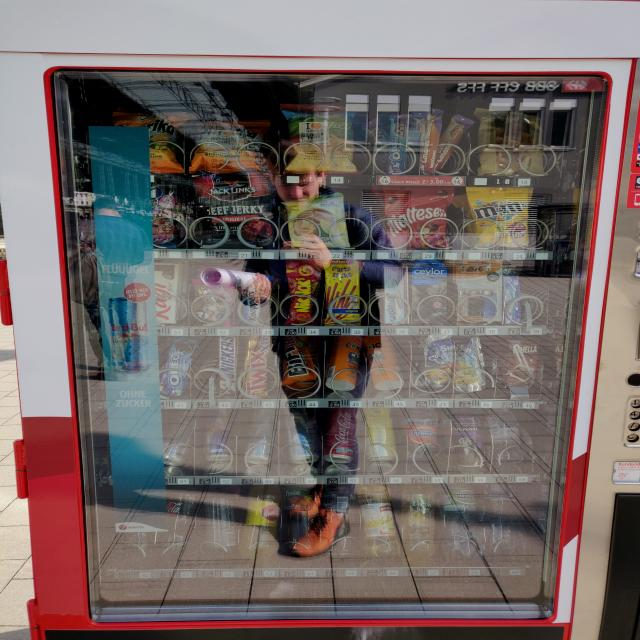bifi_roll__50__4251097402635: (280, 334, 320, 394)
c-swiss_dosenabisicetea__33__9120025930135: (365, 333, 408, 392), (323, 337, 362, 391)
caferoyal_classicmacchiato__33__7617014164487: (445, 410, 486, 471)
caprisun_multivitamin__20__4000177605004: (451, 336, 491, 392), (416, 336, 454, 389)
coke__dose_33__54491472: (323, 410, 360, 466)
coke_zero_flasche_50__5449000131836: (159, 491, 199, 567)
comella_schokodrink__33__7613100037253: (499, 337, 540, 387)
evian___50__3068320353500: (487, 410, 529, 464)
fuse_lemon_dose_33__5449000235947: (363, 410, 401, 464)
henniez_gruen__33__7610235000442: (437, 486, 482, 565)
henniez_rot__33__7610235000442: (403, 408, 443, 470)
jacklinks_beefjerkyorginal__25__4047751730219: (196, 176, 272, 250)
jlbrichard_gauffre__90__5410495002000: (475, 110, 544, 175)
kagi___50__7610046000259: (142, 261, 182, 327)
lorenz_nicnacs__40__4018077798818: (285, 260, 322, 324)
malburner_partysticks__40__7610200279682: (319, 259, 366, 326)
maltesers___100__5000159023061: (377, 184, 457, 251)
mnms_gelb__45__40111445: (466, 182, 538, 254)
oreo___66__84100733: (161, 336, 201, 398)
pepsi_max__50__4060800105943: (201, 485, 238, 566)
ramseier_schorle__50__7610057012456: (356, 487, 399, 561)
redbull___33__90162909: (198, 409, 237, 463)
sinalco_orange__50__4018715000112: (237, 486, 284, 561)
snickers___50__5000159461122: (214, 334, 242, 396)
twix___50__5000159459228: (242, 334, 276, 398)
zweifel_graneochilli__100__7610095184009: (285, 100, 361, 173)
zweifel_paprika__90__7610095013002: (189, 114, 274, 174), (115, 110, 179, 175)
